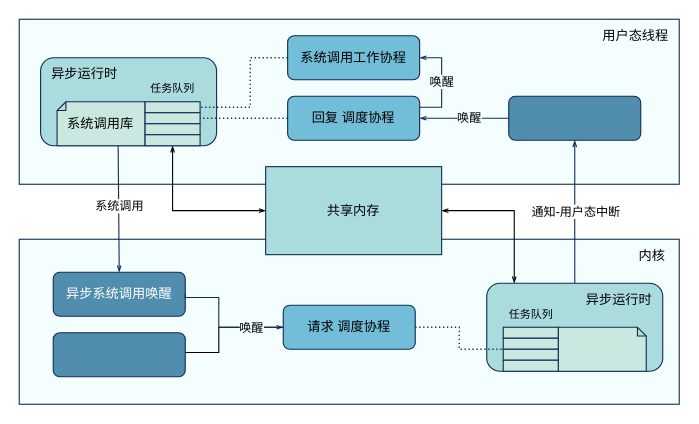
The diagram is 699 pixels wide and 424 high, and some of its shapes have lost their labels. Here are the shapes that lost their labels. From the top down, the centre of each, then its label:
point 574,117: 用户态中断处理函数
point 118,354: 内核调度器
point 601,348: 系统调用 处理程序
